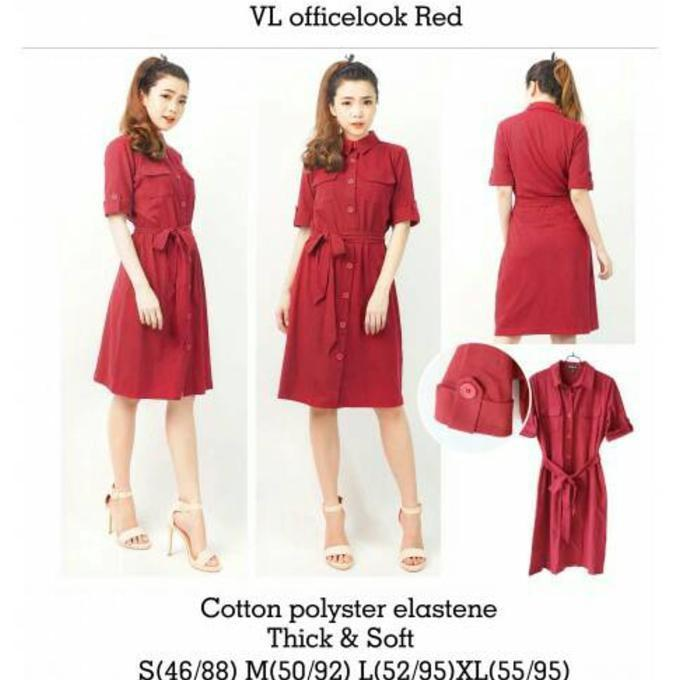dress: (262, 126, 445, 426), (81, 130, 252, 415), (468, 95, 629, 343), (515, 360, 648, 585)
